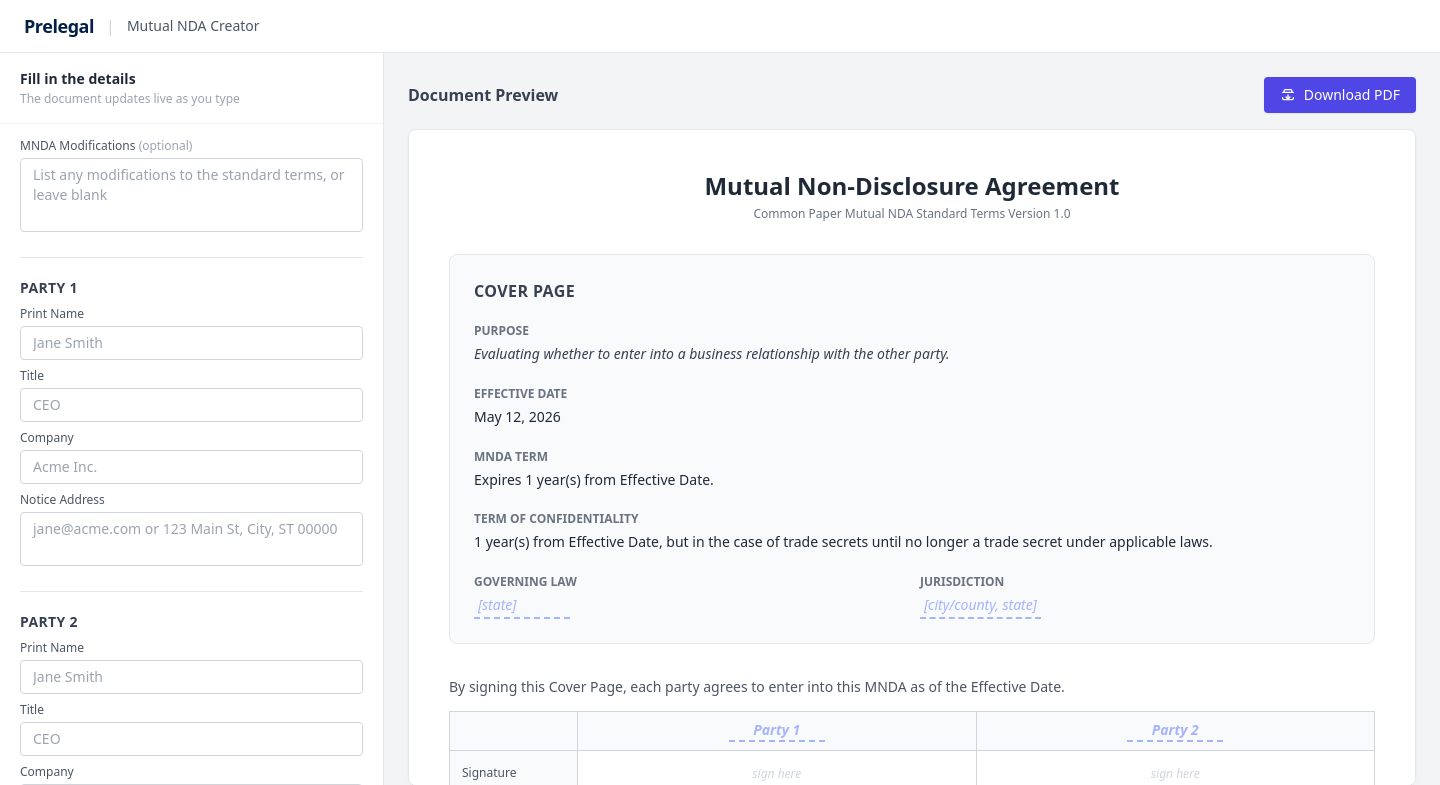
it: Home page – live preview updates › updating party 1 company reflects in the preview signature table
This screenshot has width=1440, height=785.
(page scrolled)
Type "FutureCo" into the 1st field with placeholder "Acme Inc.".
click(192, 467); type("FutureCo")  # box [20, 450, 363, 484]
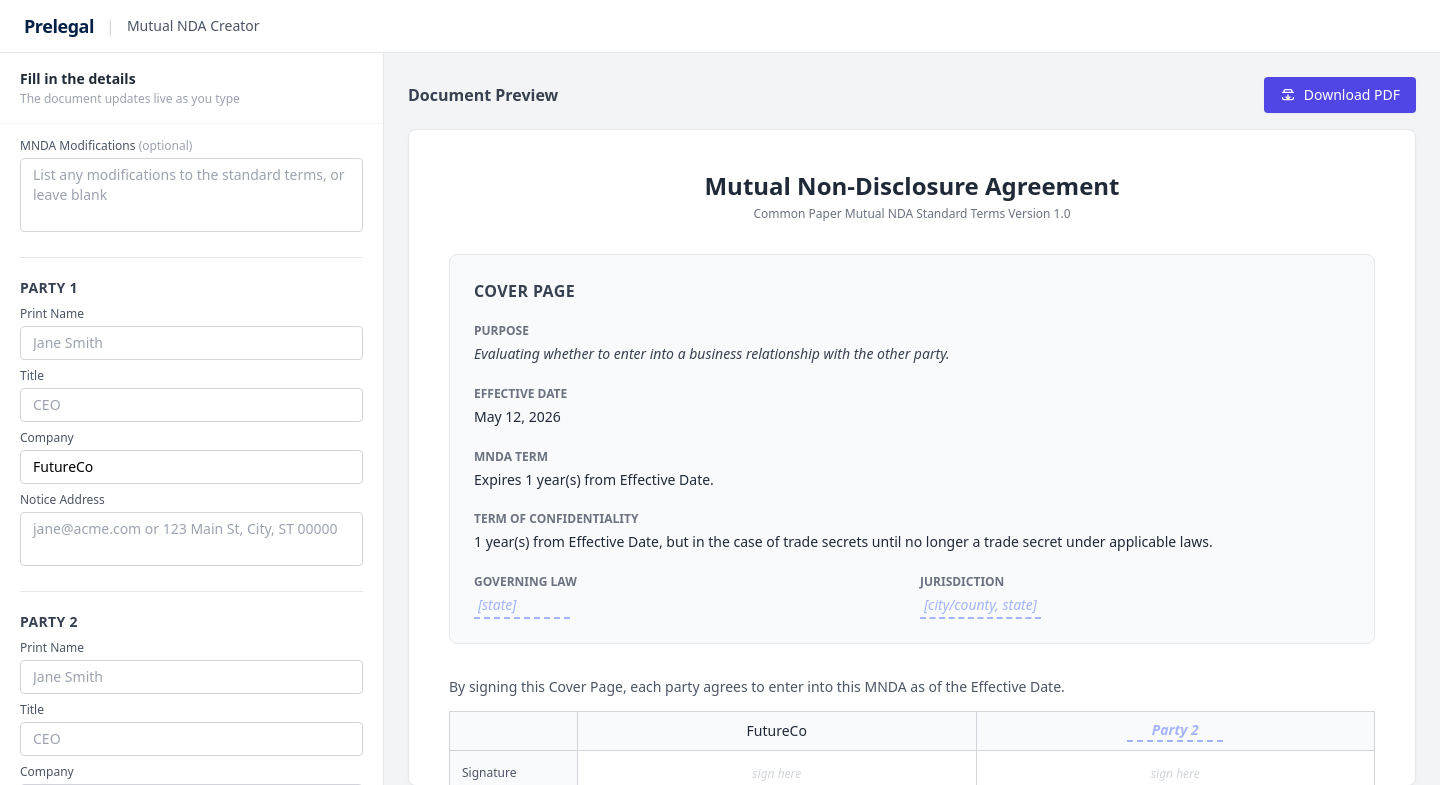
Expected: the text "FutureCo" is shown, [747, 720, 807, 740]
